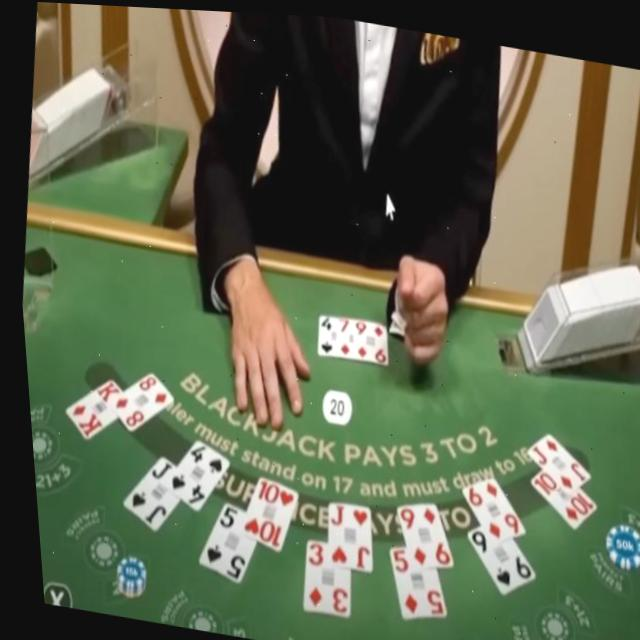Card-10: (231, 473, 290, 550), (523, 464, 590, 525)
Card-3: (294, 537, 341, 614)
Card-4: (155, 437, 223, 509), (312, 311, 332, 354)
Card-5: (190, 498, 247, 580), (381, 542, 437, 616)
Card-6: (454, 472, 518, 541)
Card-7: (332, 312, 348, 355)
Card-8: (102, 370, 167, 431)
Card-9: (459, 520, 527, 591), (389, 498, 445, 567), (349, 314, 382, 362)
Card-J: (115, 454, 172, 531), (521, 427, 583, 489), (319, 499, 363, 569)
Card-K: (59, 377, 115, 439)
